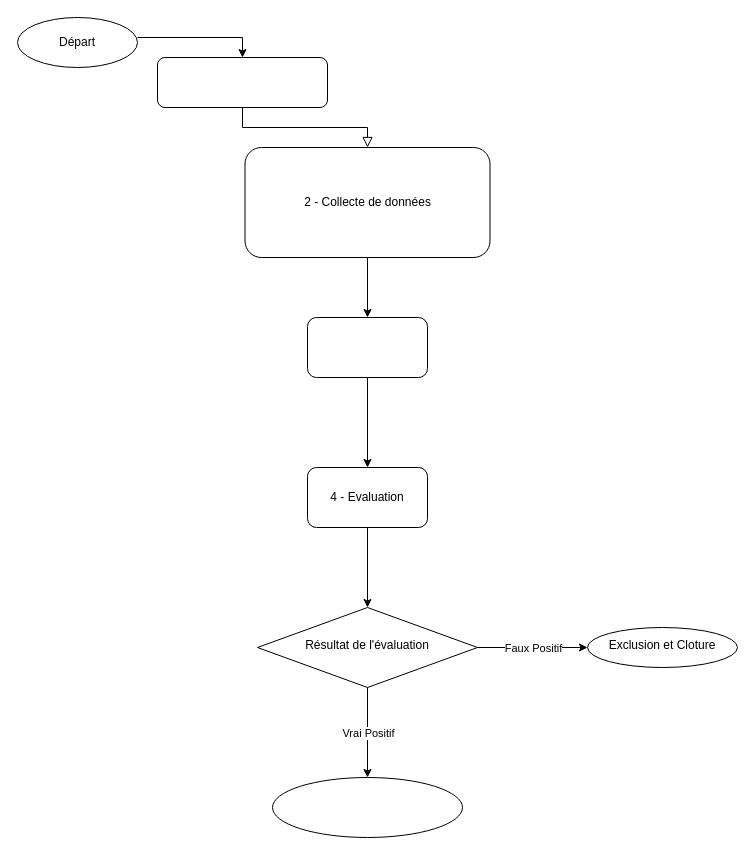
Some shapes in this 755 by 855 pixel diagram are drawn without their labels. Each missing label, with the box of its shape:
1 - Détection de Vulnérabilité Exploitée: (156, 56, 328, 108)
3 - Triage: (306, 316, 428, 378)
Escalade: (272, 776, 462, 838)
